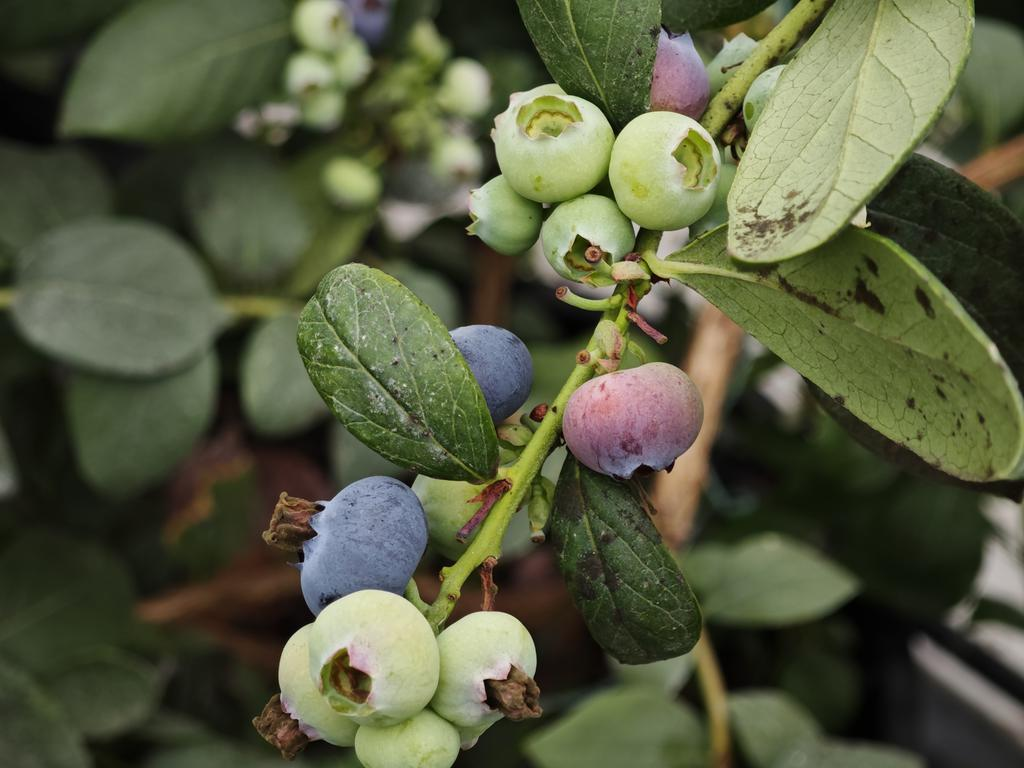RipeBlueBerry: (277, 473, 429, 591)
Semi-RipeBlueBerry: (564, 359, 709, 483)
UnripeBlueBerry: (310, 584, 438, 724), (490, 69, 613, 200), (439, 609, 554, 728), (614, 110, 722, 230)
